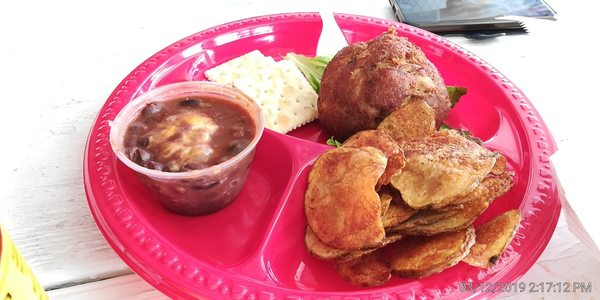sushi: (109, 81, 264, 215)
